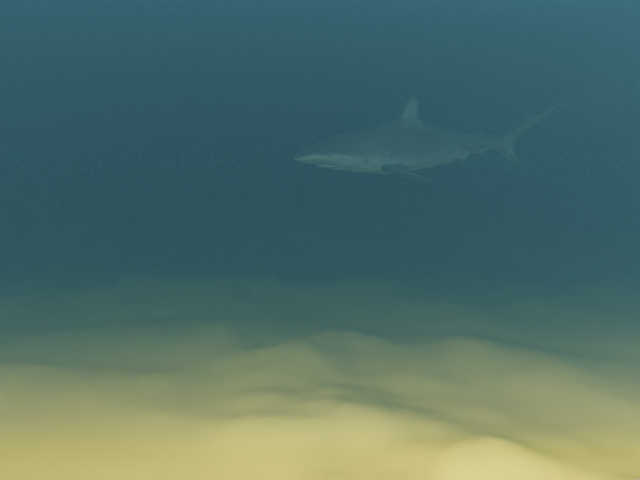Carribean Shark.001: (292, 92, 566, 183)
